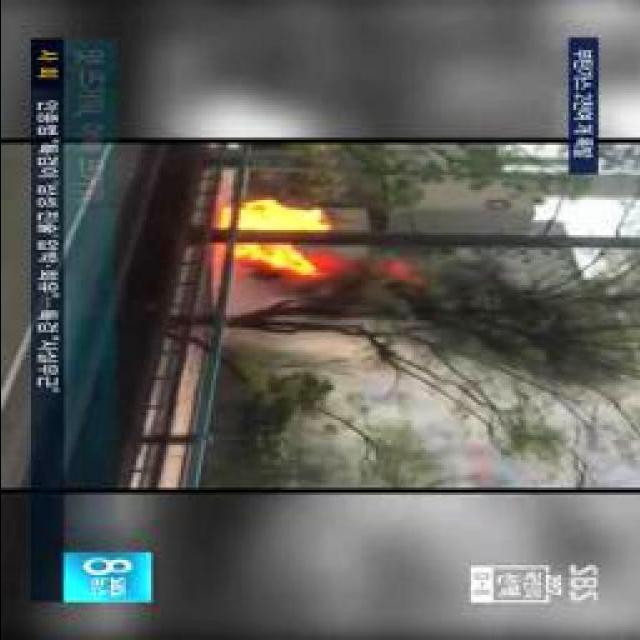Fire: (215, 190, 313, 284)
